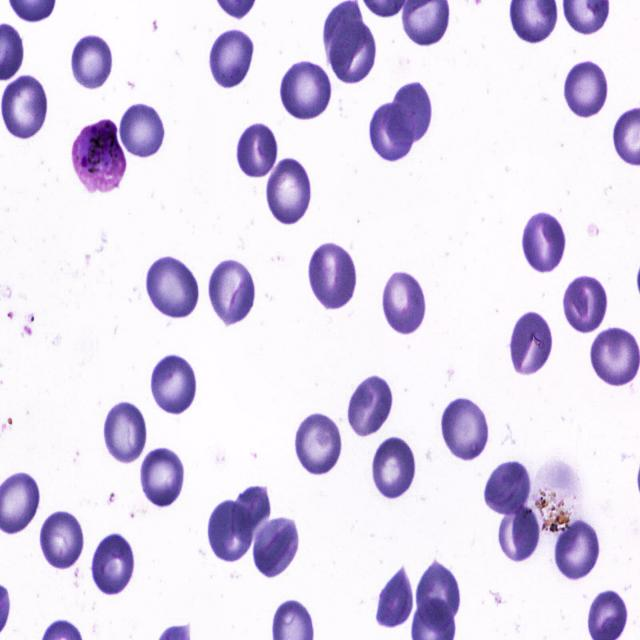red blood cell: (143, 249, 202, 322), (309, 239, 359, 314), (293, 408, 345, 478), (440, 394, 492, 464), (207, 256, 256, 329), (380, 268, 430, 338), (149, 351, 200, 418), (346, 372, 396, 439), (252, 514, 302, 581), (554, 516, 603, 584), (384, 79, 433, 147), (264, 157, 312, 226), (279, 60, 332, 122), (102, 397, 150, 465), (589, 326, 640, 389), (137, 444, 186, 509), (0, 74, 48, 140), (416, 558, 460, 630), (330, 19, 378, 85), (322, 1, 364, 76), (38, 508, 87, 571), (208, 27, 257, 90), (562, 56, 611, 119), (205, 498, 254, 561), (508, 312, 554, 378), (92, 532, 137, 598), (372, 436, 418, 500), (482, 457, 531, 517), (497, 500, 544, 562), (118, 100, 168, 158), (520, 213, 567, 273), (371, 568, 416, 629), (370, 102, 415, 163), (562, 275, 608, 334), (236, 121, 280, 180), (71, 31, 115, 90), (232, 482, 272, 546)
trophozoite: (71, 116, 128, 194)
